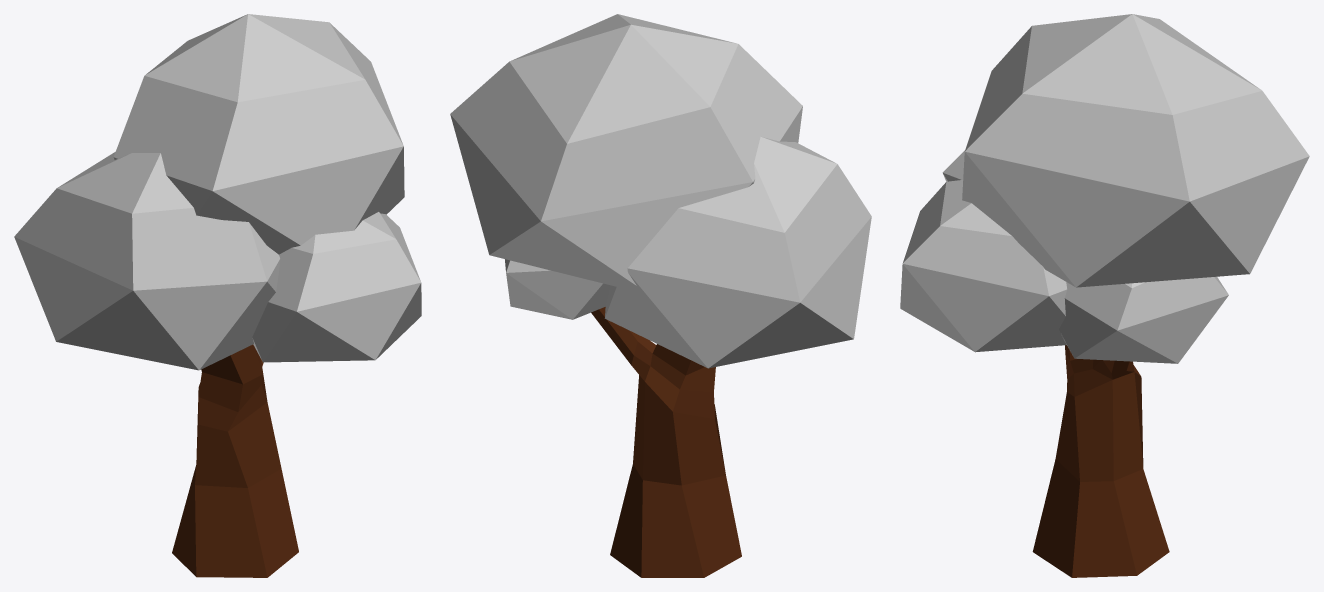
Rendered from T_Oak2Snow.fbx.
3 views of the same model, side by side, from view 1: azimuth 30°, elevation 25°; view 2: azimuth 150°, elevation 25°; view 3: azimuth 270°, elevation 25° (orthographic). The views are drawn at different scales.
Parts seen in each view (by area): view 1: Icosphere; view 2: Icosphere; view 3: Icosphere.
Part boxes in pixels (bbox=[...]): Icosphere: bbox=[14, 14, 421, 577]; Icosphere: bbox=[450, 14, 871, 577]; Icosphere: bbox=[900, 14, 1309, 577].
Bounding box in the file's own units: 6.2 × 8.71 × 5.85.
